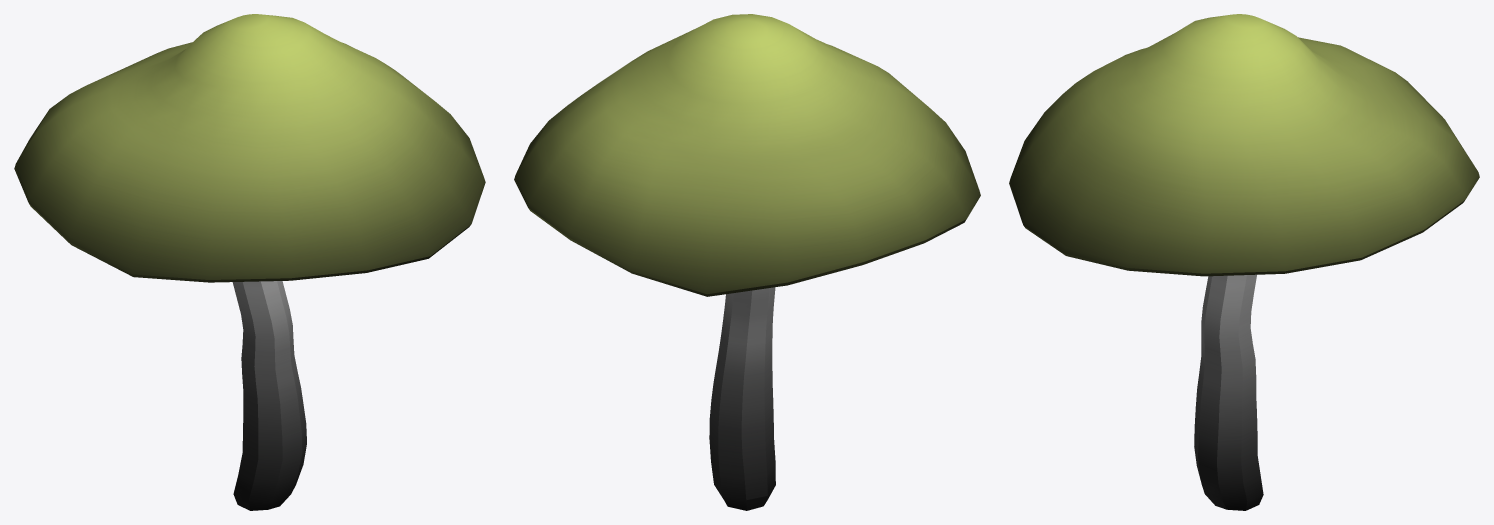
Rendered from mushroom7.fbx.
The picture shows the model from 3 angles, left to right: view 1: azimuth 30°, elevation 25°; view 2: azimuth 150°, elevation 25°; view 3: azimuth 270°, elevation 25°; orthographic projection.
Visible parts, largest first — view 1: mushroom7; view 2: mushroom7; view 3: mushroom7.
Boxes of the visible parts, box(x1,y1,x2,y2) form: mushroom7: box(14, 14, 485, 510); mushroom7: box(514, 14, 980, 510); mushroom7: box(1009, 14, 1479, 510).
Bounding box in the file's own units: 60.08 × 69.55 × 61.06.
